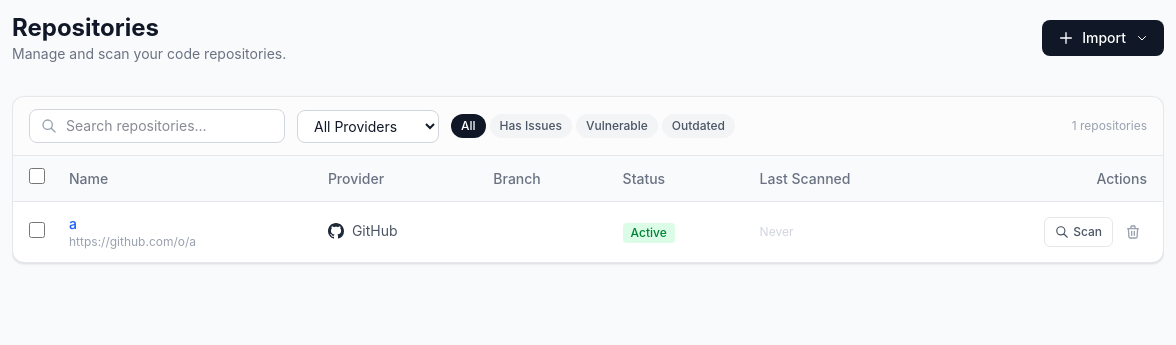
Test: Repositories › keeps the search box when a search has no results
Step 1. Type "zzz" into the field with placeholder "Search repositories..." → (157, 126), box [29,109,285,143]
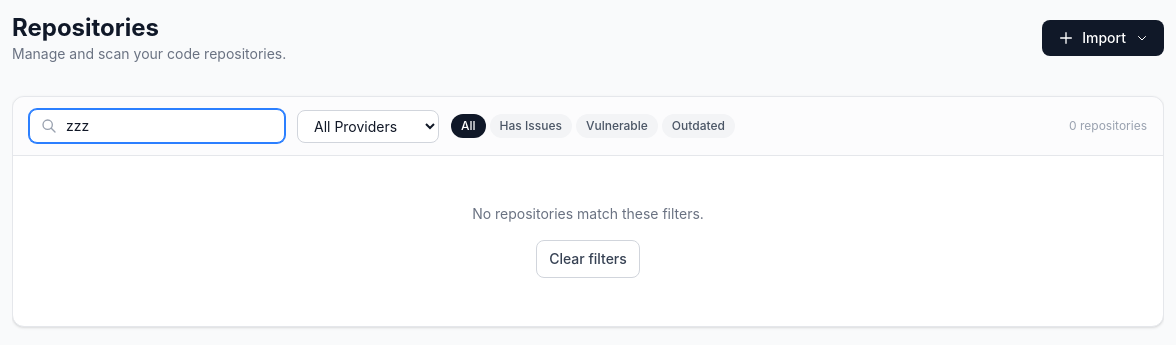
Now the text "No repositories match these filters." is shown, box [472,205,704,222]
Step 2. Click the button "Clear filters" → click(588, 259), box [536,240,640,278]
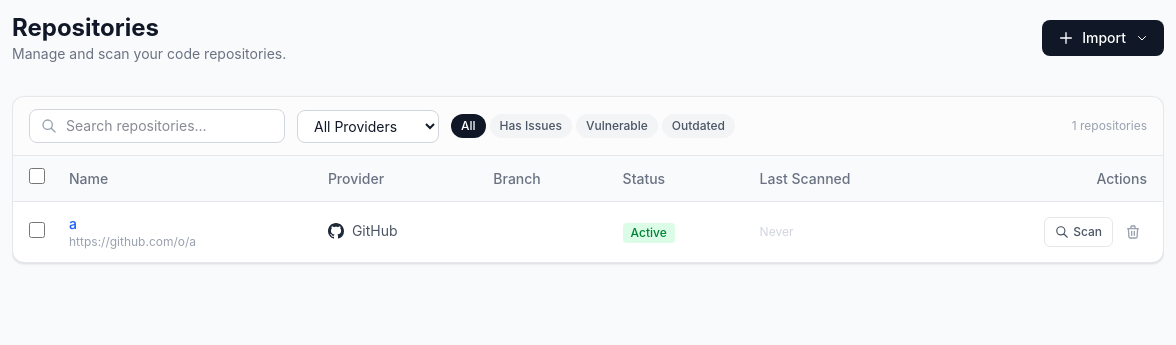
Now the link "a" is shown, box [69,215,77,232]
